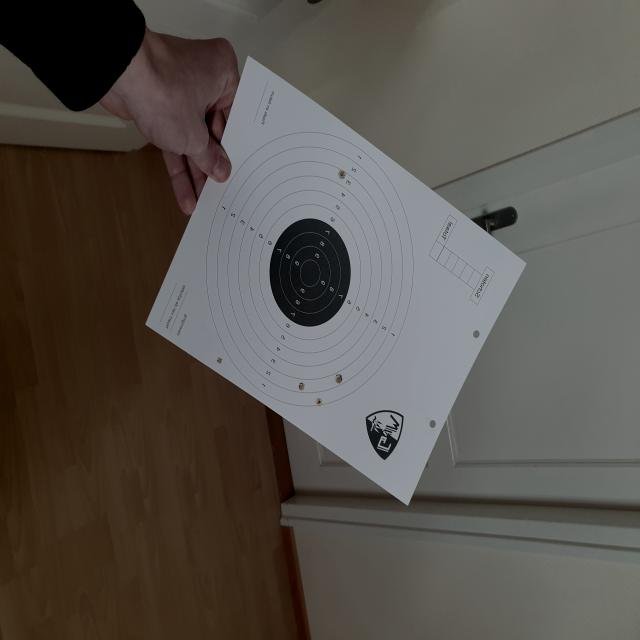0: (217, 356, 224, 364)
1: (315, 398, 323, 407)
2: (335, 374, 342, 384), (299, 382, 305, 390)
3: (338, 170, 346, 179)
Target: (205, 130, 415, 403)
black_contour: (270, 218, 350, 327)
